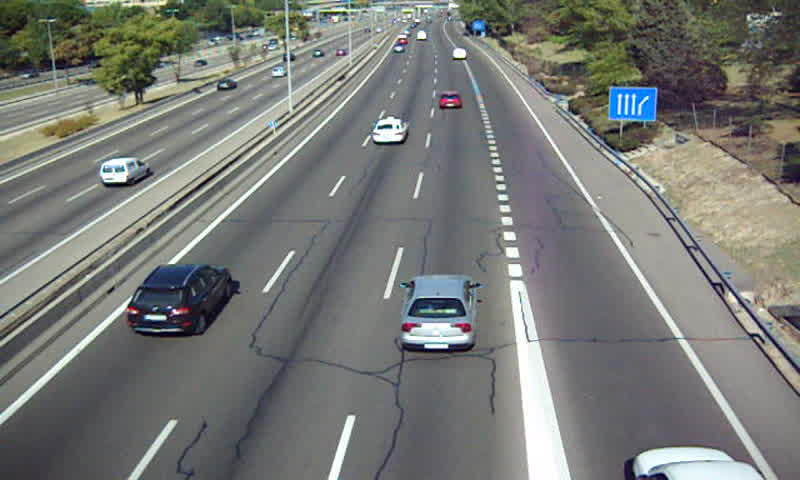car: (127, 264, 230, 336), (399, 274, 476, 352), (372, 116, 409, 145), (438, 90, 461, 108)
